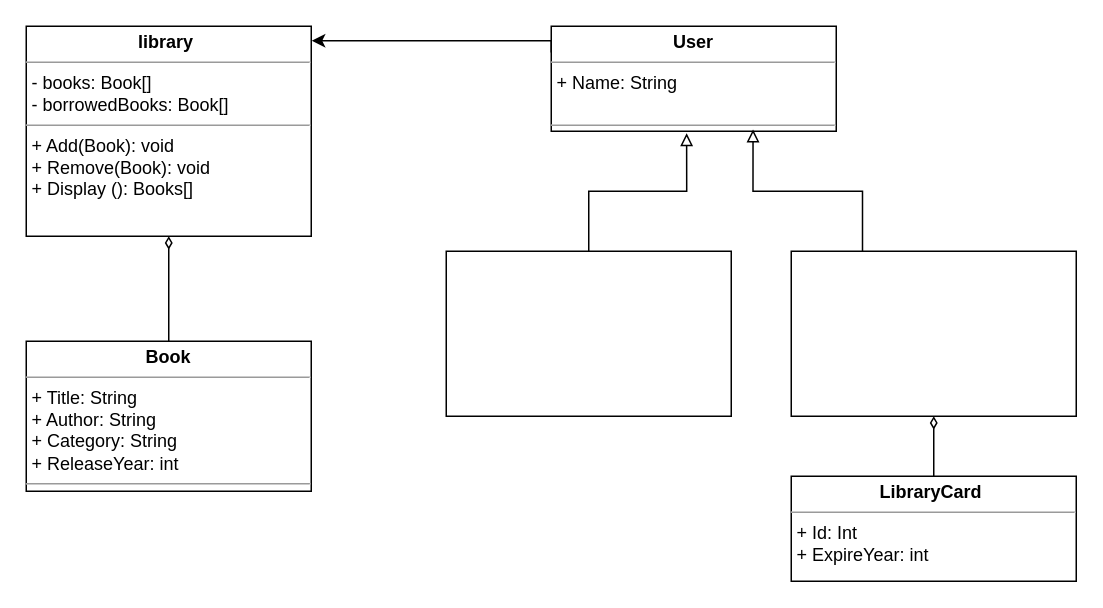
Some shapes in this 1103 by 608 pixel diagram are drawn without their labels. The shapes that lost their labels are listed below. From the top down, each one's centre as x and y in pixels, then its label:
At (588,333): "Liberian + EmpolyeeID: int + AddBook(Book): void + RemoveBook(Book): void".
At (933,333): "LibraryUser + Card: Library Card + DisplayBook():Book[] + BorrowBook(Book): void".
